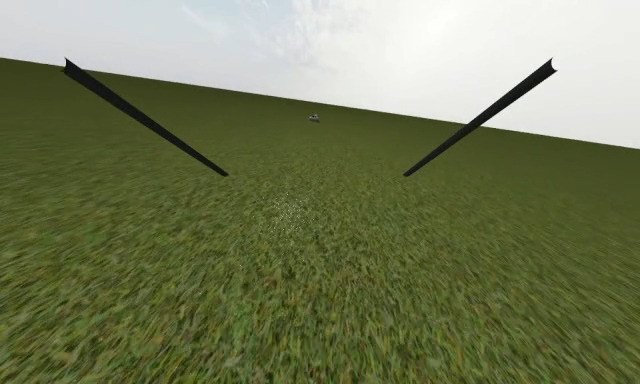Car: (309, 112, 322, 122)
